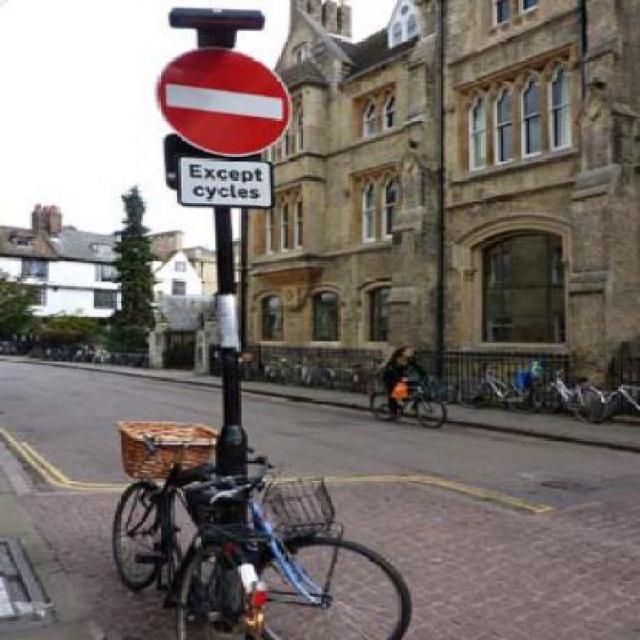traffic_sign: (151, 46, 307, 157)
